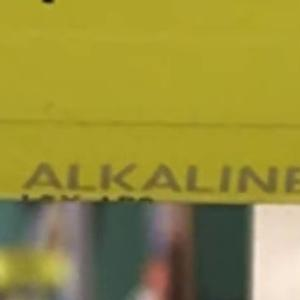keyword: (15, 156, 138, 199)
